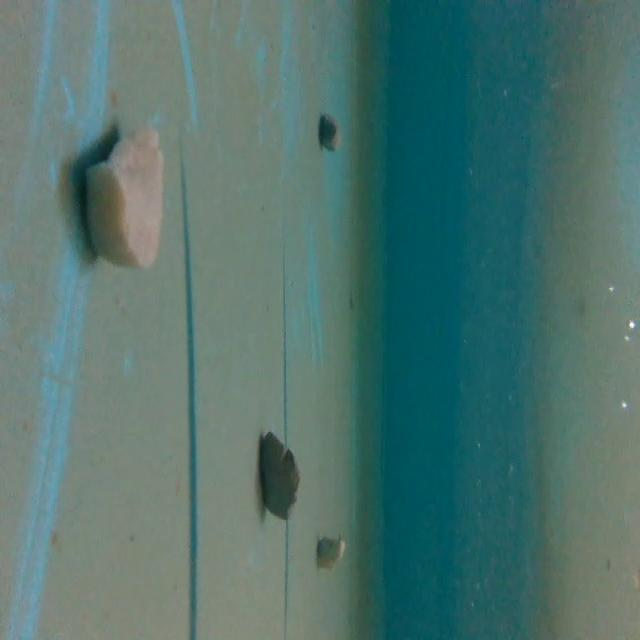rock: (80, 116, 166, 276), (256, 425, 306, 525), (313, 526, 349, 571), (313, 110, 342, 158)
